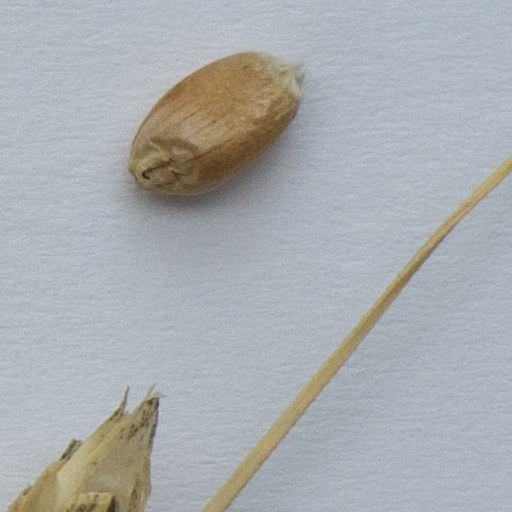Peel-poly: (193, 156, 511, 511), (5, 395, 159, 511)
